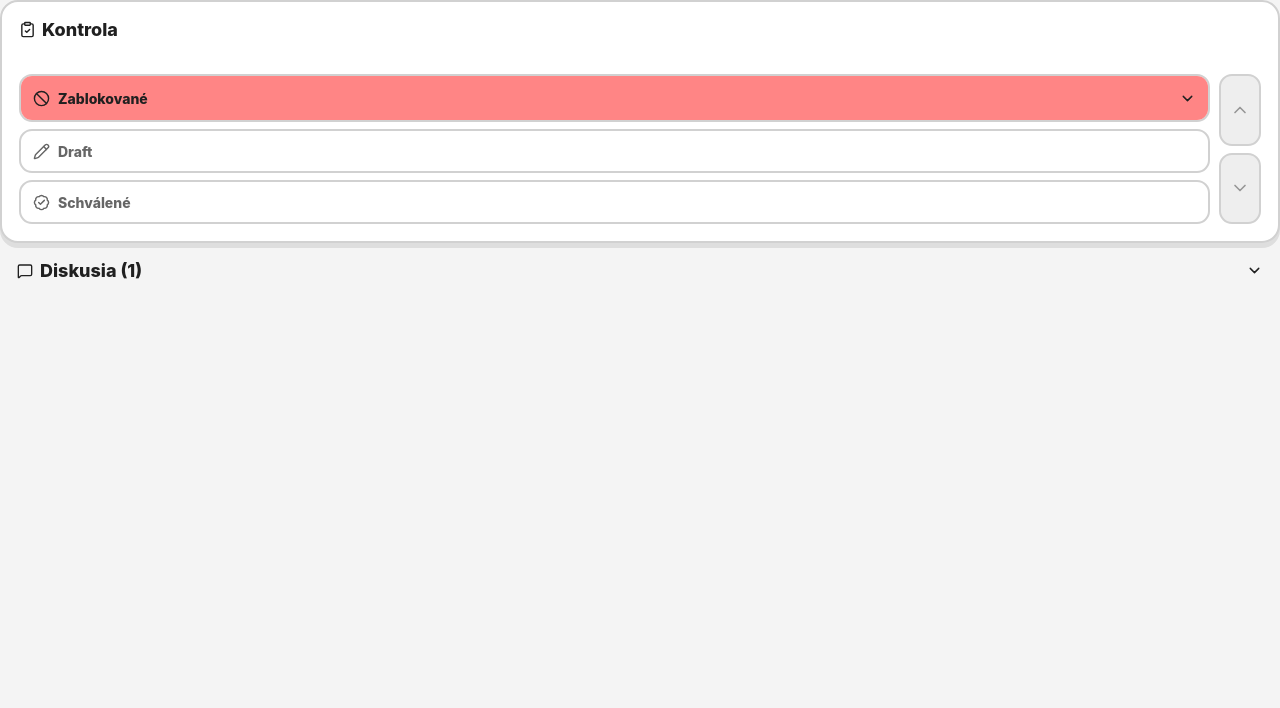
ReviewPanel › renders every blocker without a redundant count and keeps nonblocking comments unadorned
Step 1. Click the heading "Zablokované" → (103, 98), box [21,76,1208,120]
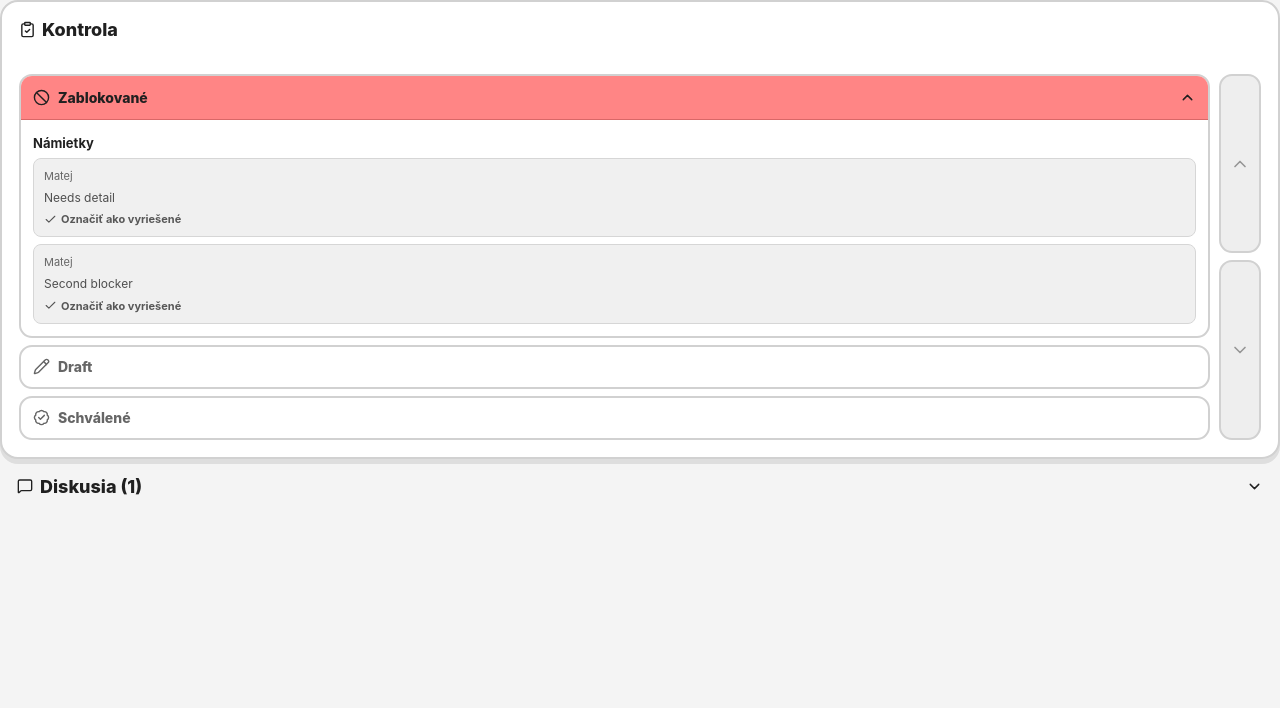
Expected: the text "Needs detail" is shown, [44,190,115,205]
Expected: the text "Second blocker" is shown, [44,276,133,291]
Step 2. Click the heading "Diskusia (1)" → (91, 486), box [17,476,1263,497]
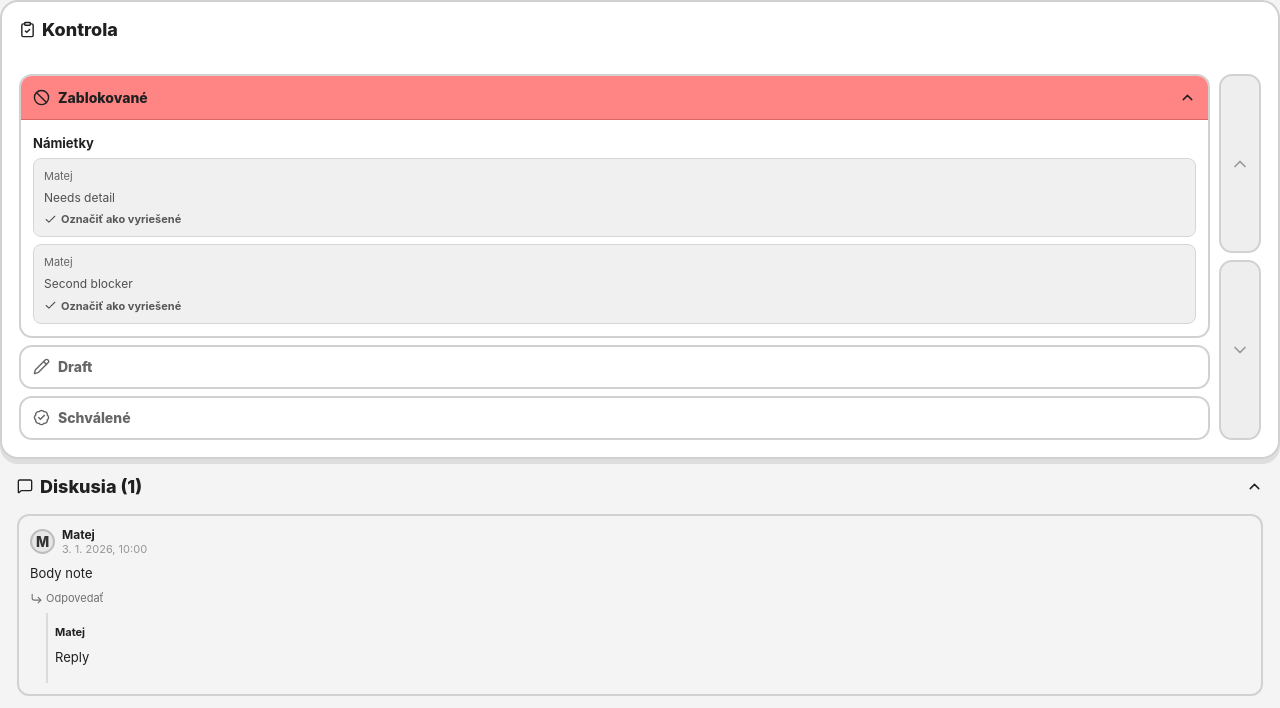
Expected: the text "Body note" is shown, [30,565,92,581]
